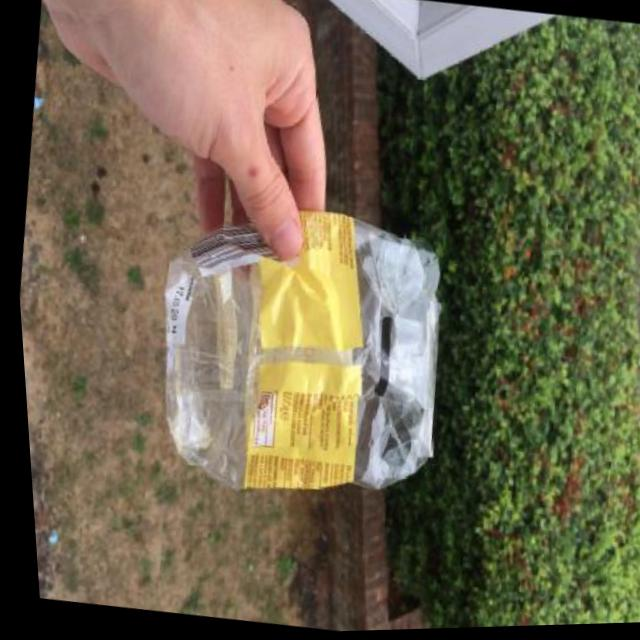plastic: (130, 179, 471, 523)
